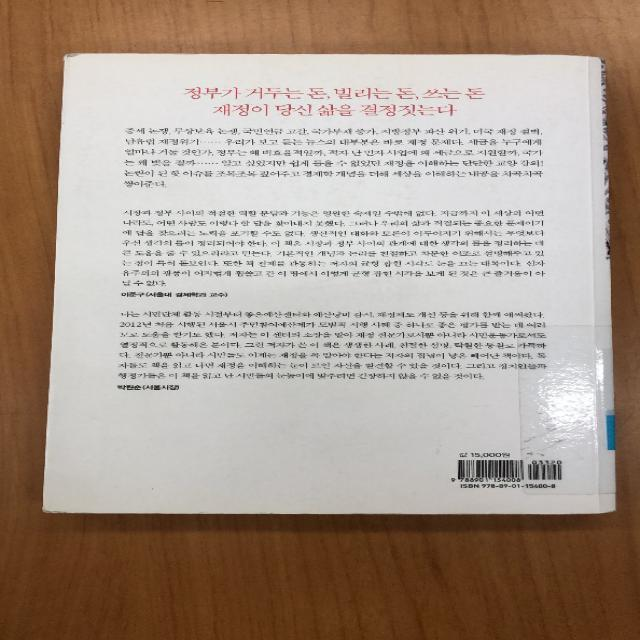Wornout: (560, 53, 610, 71), (38, 501, 75, 516), (60, 48, 85, 67), (577, 506, 620, 517)
